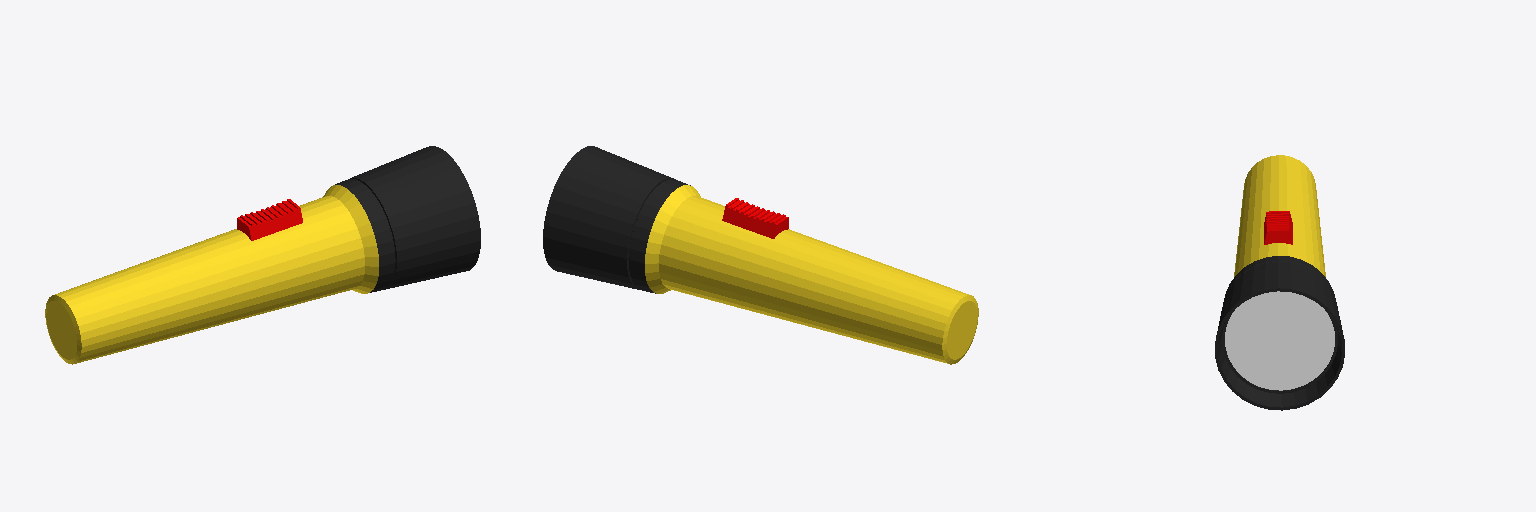
Rendered from Flashlight.obj.
3 views of the same model, side by side, from view 1: azimuth 30°, elevation 25°; view 2: azimuth 150°, elevation 25°; view 3: azimuth 270°, elevation 25° (orthographic).
Parts seen in each view (by area): view 1: Flashlight; view 2: Flashlight; view 3: Flashlight.
Part boxes in pixels (x1,y1,x2,y2): Flashlight: (45,146,480,364); Flashlight: (543,146,978,364); Flashlight: (1215,155,1344,410).
Size of the model in its own units: 322 by 93.57 by 93.1.